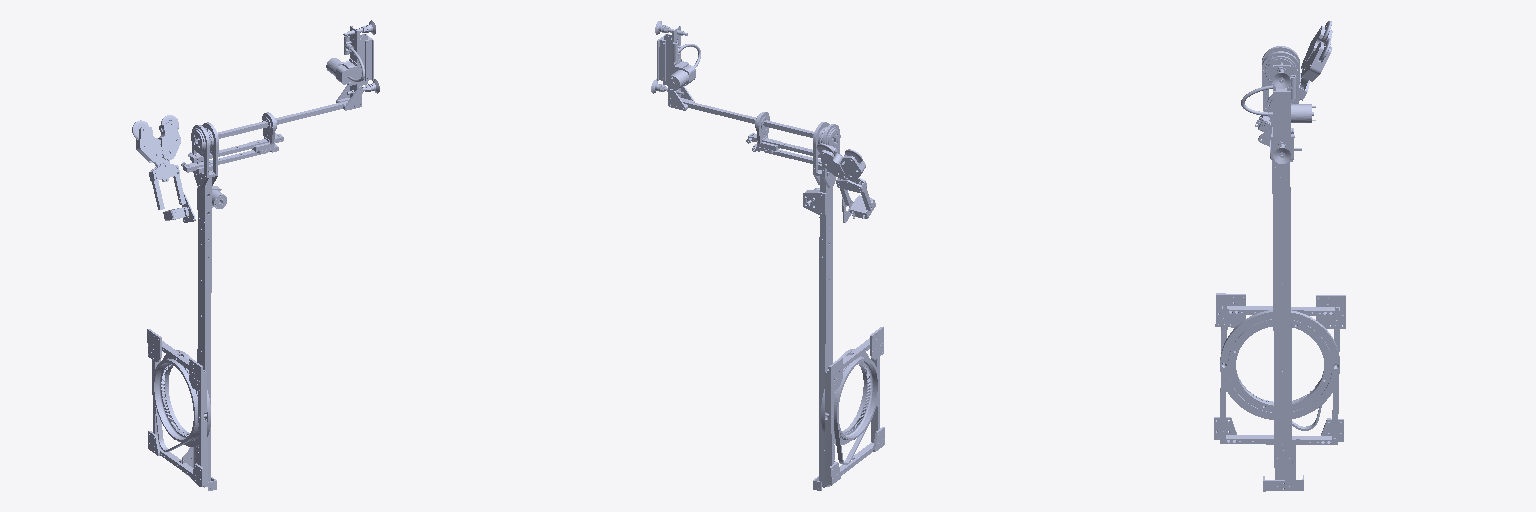
URDF robot description (a_r2):
<?xml version="1.0" ?>
<!-- =================================================================================== -->
<!-- |    This document was autogenerated by xacro from /home/a/ws_nhk/src/a_r2_description-20251207T063721Z-3-001/a_r2_description/urdf/a_r2.xacro | -->
<!-- |    EDITING THIS FILE BY HAND IS NOT RECOMMENDED                                 | -->
<!-- =================================================================================== -->
<robot name="a_r2">
  <material name="silver_default">
    <color rgba="0.700 0.700 0.700 1.000"/>
  </material>
  <material name="opaque202209238">
    <color rgba="0.792156862745098 0.8196078431372549 0.9333333333333333 1.0"/>
  </material>
  <material name="steel_satin">
    <color rgba="0.6274509803921569 0.6274509803921569 0.6274509803921569 1.0"/>
  </material>
  <transmission name="Slider 1_tran">
    <type>transmission_interface/SimpleTransmission</type>
    <joint name="Slider 1">
      <hardwareInterface>hardware_interface/EffortJointInterface</hardwareInterface>
    </joint>
    <actuator name="Slider 1_actr">
      <hardwareInterface>hardware_interface/EffortJointInterface</hardwareInterface>
      <mechanicalReduction>1</mechanicalReduction>
    </actuator>
  </transmission>
  <transmission name="Revolute 3_tran">
    <type>transmission_interface/SimpleTransmission</type>
    <joint name="Revolute 3">
      <hardwareInterface>hardware_interface/EffortJointInterface</hardwareInterface>
    </joint>
    <actuator name="Revolute 3_actr">
      <hardwareInterface>hardware_interface/EffortJointInterface</hardwareInterface>
      <mechanicalReduction>1</mechanicalReduction>
    </actuator>
  </transmission>
  <transmission name="Revolute 2_tran">
    <type>transmission_interface/SimpleTransmission</type>
    <joint name="Revolute 2">
      <hardwareInterface>hardware_interface/EffortJointInterface</hardwareInterface>
    </joint>
    <actuator name="Revolute 2_actr">
      <hardwareInterface>hardware_interface/EffortJointInterface</hardwareInterface>
      <mechanicalReduction>1</mechanicalReduction>
    </actuator>
  </transmission>
  <transmission name="Slider 4_tran">
    <type>transmission_interface/SimpleTransmission</type>
    <joint name="Slider 4">
      <hardwareInterface>hardware_interface/EffortJointInterface</hardwareInterface>
    </joint>
    <actuator name="Slider 4_actr">
      <hardwareInterface>hardware_interface/EffortJointInterface</hardwareInterface>
      <mechanicalReduction>1</mechanicalReduction>
    </actuator>
  </transmission>
  <transmission name="Slider 5_tran">
    <type>transmission_interface/SimpleTransmission</type>
    <joint name="Slider 5">
      <hardwareInterface>hardware_interface/EffortJointInterface</hardwareInterface>
    </joint>
    <actuator name="Slider 5_actr">
      <hardwareInterface>hardware_interface/EffortJointInterface</hardwareInterface>
      <mechanicalReduction>1</mechanicalReduction>
    </actuator>
  </transmission>
  <link name="base_link">
    <inertial>
      <origin rpy="0 0 0" xyz="-0.30323979250376926 -1.7637082522986578 0.20045847985862988"/>
      <mass value="5.960481710804654"/>
      <inertia ixx="0.265693" ixy="-0.000161" ixz="-0.003536" iyy="0.237847" iyz="0.001802" izz="0.034321"/>
    </inertial>
    <visual>
      <origin rpy="0 0 0" xyz="0 0 0"/>
      <geometry>
        <mesh filename="package://a_r2_description/meshes/base_link.stl" scale="0.001 0.001 0.001"/>
      </geometry>
      <material name="opaque202209238"/>
    </visual>
    <collision>
      <origin rpy="0 0 0" xyz="0 0 0"/>
      <geometry>
        <mesh filename="package://a_r2_description/meshes/base_link.stl" scale="0.001 0.001 0.001"/>
      </geometry>
    </collision>
  </link>
  <link name="link1_1">
    <inertial>
      <origin rpy="0 0 0" xyz="0.015073836207670388 0.1031175572774723 -0.06832299038841899"/>
      <mass value="2.393549693306081"/>
      <inertia ixx="0.024938" ixy="1.6e-05" ixz="7e-06" iyy="0.014019" iyz="9.5e-05" izz="0.011307"/>
    </inertial>
    <visual>
      <origin rpy="0 0 0" xyz="0.279969 1.870817 -0.251713"/>
      <geometry>
        <mesh filename="package://a_r2_description/meshes/link1_1.stl" scale="0.001 0.001 0.001"/>
      </geometry>
      <material name="opaque202209238"/>
    </visual>
    <collision>
      <origin rpy="0 0 0" xyz="0.279969 1.870817 -0.251713"/>
      <geometry>
        <mesh filename="package://a_r2_description/meshes/link1_1.stl" scale="0.001 0.001 0.001"/>
      </geometry>
    </collision>
  </link>
  <link name="link3_1">
    <inertial>
      <origin rpy="0 0 0" xyz="-0.030447471737916676 -0.0010766727647568697 0.0799711119549632"/>
      <mass value="1.1261936705374573"/>
      <inertia ixx="0.005205" ixy="-5e-06" ixz="7.1e-05" iyy="0.005707" iyz="-0.000326" izz="0.000701"/>
    </inertial>
    <visual>
      <origin rpy="0 0 0" xyz="0.251469 1.956474 -0.584419"/>
      <geometry>
        <mesh filename="package://a_r2_description/meshes/link3_1.stl" scale="0.001 0.001 0.001"/>
      </geometry>
      <material name="opaque202209238"/>
    </visual>
    <collision>
      <origin rpy="0 0 0" xyz="0.251469 1.956474 -0.584419"/>
      <geometry>
        <mesh filename="package://a_r2_description/meshes/link3_1.stl" scale="0.001 0.001 0.001"/>
      </geometry>
    </collision>
  </link>
  <link name="link2_1">
    <inertial>
      <origin rpy="0 0 0" xyz="0.006692256834195248 -0.03298749186434358 0.0775459739879038"/>
      <mass value="2.9811225398272745"/>
      <inertia ixx="0.103921" ixy="0.000456" ixz="-0.001257" iyy="0.08371" iyz="0.039073" izz="0.021708"/>
    </inertial>
    <visual>
      <origin rpy="0 0 0" xyz="0.251469 1.768255 -0.186709"/>
      <geometry>
        <mesh filename="package://a_r2_description/meshes/link2_1.stl" scale="0.001 0.001 0.001"/>
      </geometry>
      <material name="opaque202209238"/>
    </visual>
    <collision>
      <origin rpy="0 0 0" xyz="0.251469 1.768255 -0.186709"/>
      <geometry>
        <mesh filename="package://a_r2_description/meshes/link2_1.stl" scale="0.001 0.001 0.001"/>
      </geometry>
    </collision>
  </link>
  <link name="link4_1">
    <inertial>
      <origin rpy="0 0 0" xyz="0.04143876289247539 0.047487159169981696 -0.14176347987297389"/>
      <mass value="3.577862597500207"/>
      <inertia ixx="0.282419" ixy="0.008059" ixz="-0.016249" iyy="0.23477" iyz="0.111687" izz="0.063813"/>
    </inertial>
    <visual>
      <origin rpy="0 0 0" xyz="0.230969 1.939128 -0.59294"/>
      <geometry>
        <mesh filename="package://a_r2_description/meshes/link4_1.stl" scale="0.001 0.001 0.001"/>
      </geometry>
      <material name="opaque202209238"/>
    </visual>
    <collision>
      <origin rpy="0 0 0" xyz="0.230969 1.939128 -0.59294"/>
      <geometry>
        <mesh filename="package://a_r2_description/meshes/link4_1.stl" scale="0.001 0.001 0.001"/>
      </geometry>
    </collision>
  </link>
  <link name="link5_1">
    <inertial>
      <origin rpy="0 0 0" xyz="0.3178712284448246 -0.019838436888842903 0.05880366800915604"/>
      <mass value="1.253566521763957"/>
      <inertia ixx="0.002422" ixy="0.000563" ixz="-0.001126" iyy="0.005507" iyz="0.00066" izz="0.004414"/>
    </inertial>
    <visual>
      <origin rpy="0 0 0" xyz="0.188169 2.017632 -0.705343"/>
      <geometry>
        <mesh filename="package://a_r2_description/meshes/link5_1.stl" scale="0.001 0.001 0.001"/>
      </geometry>
      <material name="opaque202209238"/>
    </visual>
    <collision>
      <origin rpy="0 0 0" xyz="0.188169 2.017632 -0.705343"/>
      <geometry>
        <mesh filename="package://a_r2_description/meshes/link5_1.stl" scale="0.001 0.001 0.001"/>
      </geometry>
    </collision>
  </link>
  <joint name="Slider 1" type="prismatic">
    <origin rpy="0 0 0" xyz="-0.279969 -1.870817 0.251713"/>
    <parent link="base_link"/>
    <child link="link1_1"/>
    <axis xyz="-0.0 0.014599 0.999893"/>
    <limit effort="100" lower="0.0" upper="0.22" velocity="100"/>
  </joint>
  <joint name="Revolute 3" type="revolute">
    <origin rpy="0 0 0" xyz="0.0 -0.188219 0.39771"/>
    <parent link="link2_1"/>
    <child link="link3_1"/>
    <axis xyz="1.0 0.0 0.0"/>
    <limit effort="100" lower="0.0" upper="1.570796" velocity="100"/>
  </joint>
  <joint name="Revolute 2" type="continuous">
    <origin rpy="-0.450 0 0" xyz="0.0285 0.102562 -0.065004"/>
    <parent link="link1_1"/>
    <child link="link2_1"/>
    <axis xyz="1.0 0.0 0.0"/>
  </joint>
  <joint name="Slider 4" type="prismatic">
    <origin rpy="0 0 0" xyz="0.0205 -0.170873 0.406231"/>
    <parent link="link2_1"/>
    <child link="link4_1"/>
    <axis xyz="-0.0 -0.440919 0.897547"/>
    <limit effort="100" lower="0.0" upper="0.6" velocity="100"/>
  </joint>
  <joint name="Slider 5" type="prismatic">
    <origin rpy="0 0 0" xyz="0.0428 -0.078504 0.112403"/>
    <parent link="link4_1"/>
    <child link="link5_1"/>
    <axis xyz="1.0 0.0 0.0"/>
    <limit effort="100" lower="-0.1" upper="0.1" velocity="100"/>
  </joint>
</robot>

--- Facts derived from the render (not from the file) ---
Views: 3 orthographic renders of the robot side by side, from view 1: azimuth 30°, elevation 25°; view 2: azimuth 150°, elevation 25°; view 3: azimuth 270°, elevation 25°.
Model a_r2 with 6 links and 5 joints (1 revolute, 1 continuous, 3 prismatic), rooted at base_link, posed every joint at zero.
Links seen in each view (by area): view 1: link4_1, link1_1, link5_1, link3_1; view 2: link4_1, link1_1, link5_1, link3_1; view 3: link1_1, link4_1, link5_1, link3_1.
Boxes of the visible links, x1,y1,x2,y2 form: link4_1: [181, 112, 283, 490]; link1_1: [147, 329, 210, 486]; link5_1: [218, 20, 379, 138]; link3_1: [132, 115, 195, 222]; link4_1: [746, 112, 841, 490]; link1_1: [821, 327, 884, 485]; link5_1: [651, 21, 813, 137]; link3_1: [816, 143, 875, 222]; link1_1: [1214, 293, 1345, 444]; link4_1: [1262, 46, 1303, 491]; link5_1: [1241, 62, 1315, 163]; link3_1: [1255, 21, 1332, 146].
Size in the robot's own frame: 0.529 by 0.2209 by 0.9477 metres.
Meshes: 6 distinct files referenced, 4 mesh visuals loaded (4 binary STL); not drawn: 2 (reference not matched to a file when rendering).
